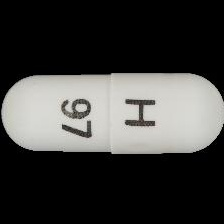54868-3632: (0, 0, 224, 224)
